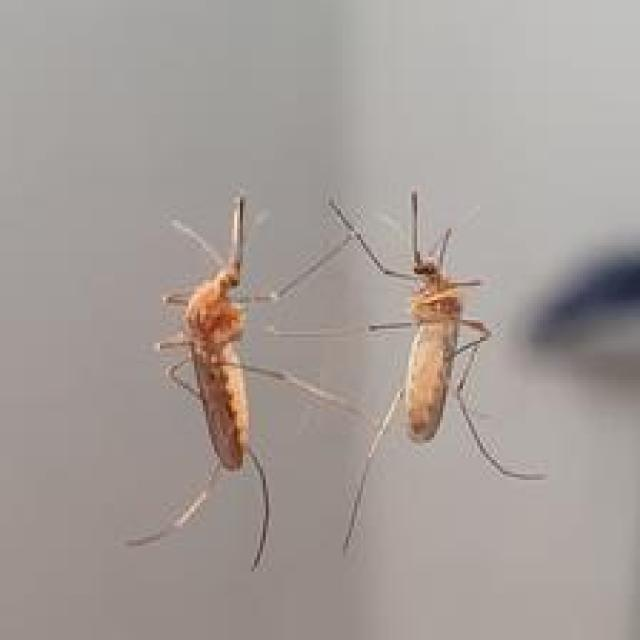Culex: (124, 190, 370, 570)
